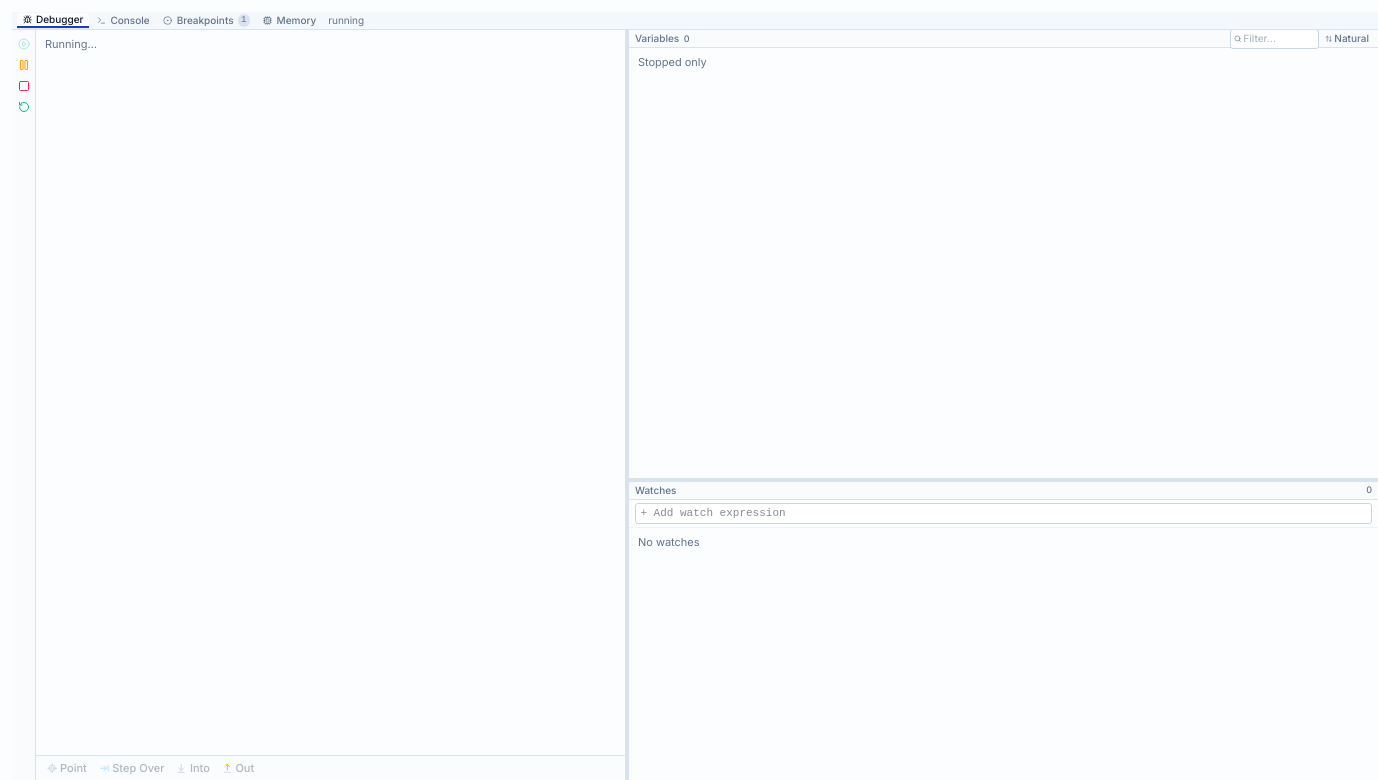
Test: DebugPanel › surfaces an adapter that cannot arm saved function breakpoints
Click the tab with test id "debug-subtab-breakpoints": x=206, y=20 [157,13,256,28]
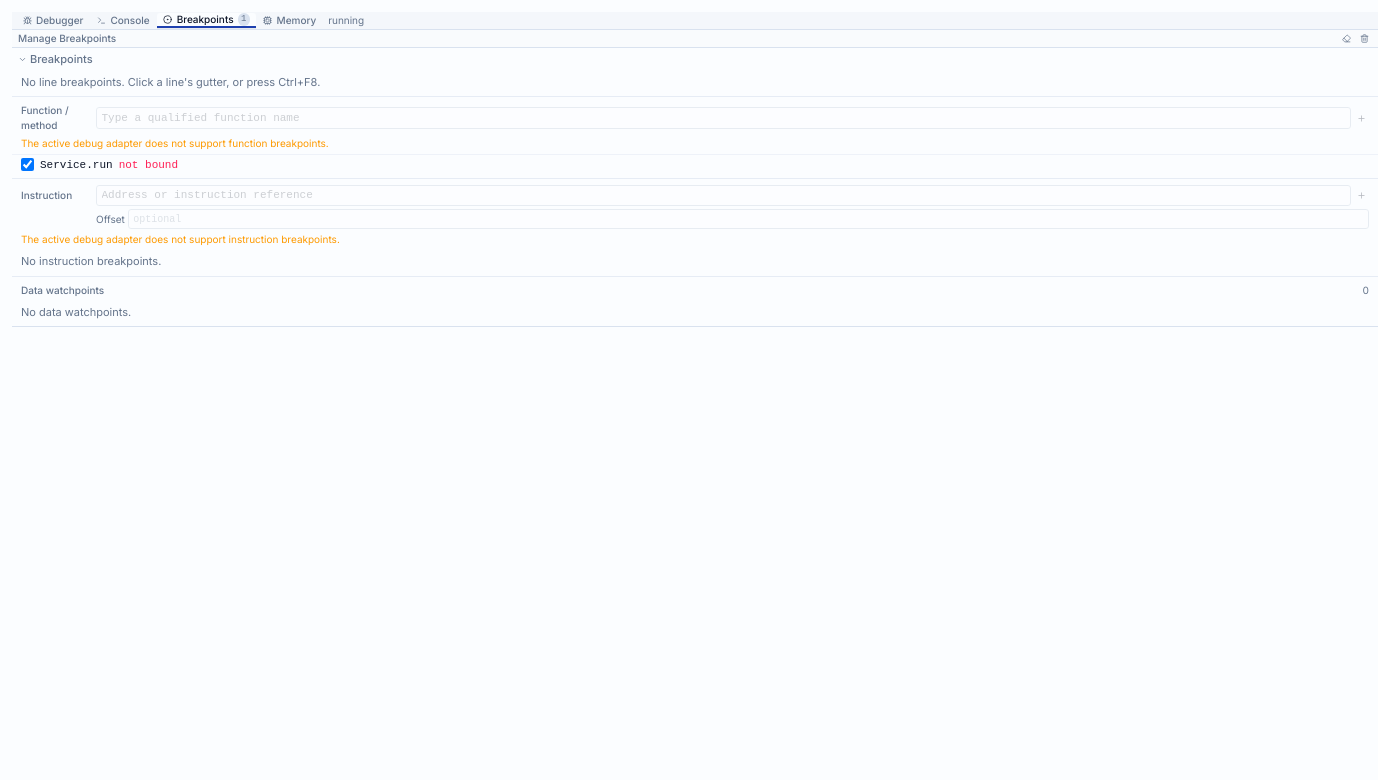
expect the text with test id "debug-function-breakpoint-unsupported" is shown: met, box [21,137,329,149]
expect the field with test id "debug-function-breakpoint-input" is disabled: met, box [96,107,1351,129]
expect the text with test id "debug-function-breakpoint-binding-0" reads "not bound": met, box [119,158,178,170]
